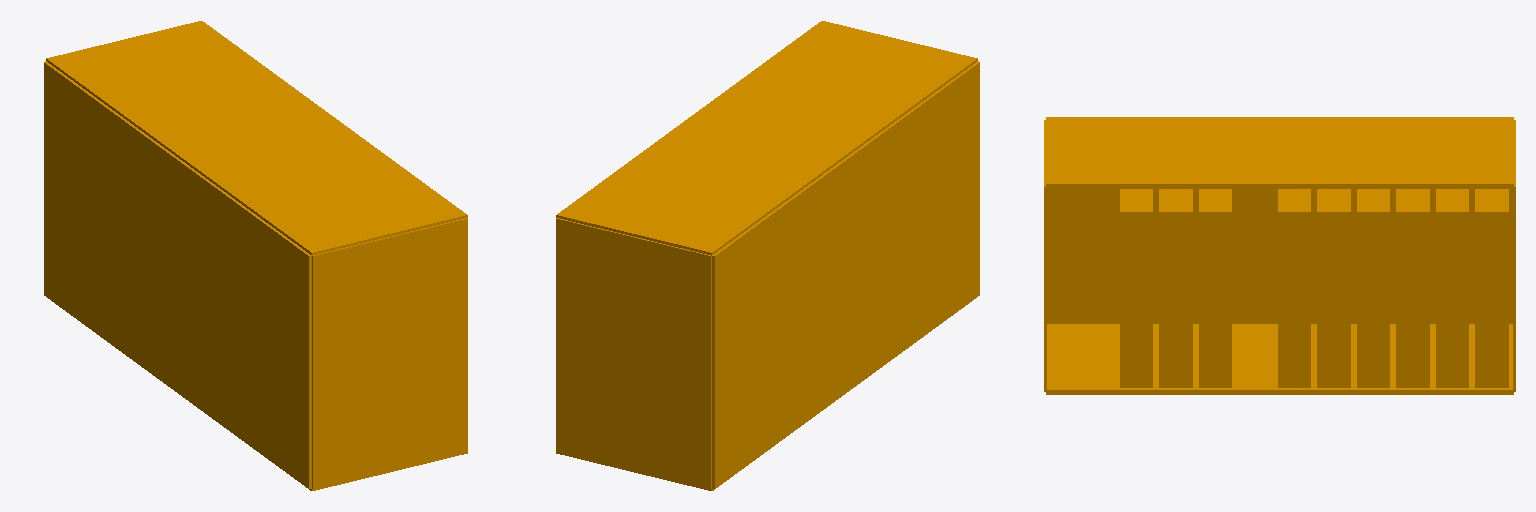
robot.urdf — syn_bookshelf_90:
<?xml version="1.0" ?>
<robot name="syn_bookshelf_90">
    <link concave="yes" name="base_link">
        <inertial>
            <origin rpy="0 0 0" xyz="0 0 0"/>
            <mass value="0.0"/>
            <inertia ixx="1e-08" ixy="0" ixz="0" iyy="1e-08" iyz="0" izz="1e-08"/>
        </inertial>
        <visual>
            <origin xyz="0 0 0" rpy="0 0 0" />
            <geometry>
                <mesh filename="syn_bookshelf_90.obj" scale="1.000000 1.000000 1.000000"/>
            </geometry>         
        </visual>

        <collision concave="yes">
            <origin xyz="0 0 0" rpy="0 0 0"/>
            <geometry>
                <mesh filename="syn_bookshelf_90.obj" scale="1.000000 1.000000 1.000000"/>
            </geometry>
        </collision>
    </link>
</robot>
    

--- Render facts (derived) ---
Views: 3 orthographic renders of the robot side by side, from view 1: azimuth 30°, elevation 25°; view 2: azimuth 150°, elevation 25°; view 3: azimuth 270°, elevation 25°.
Robot: syn_bookshelf_90 — 1 links, 0 joints (none); root link base_link; default pose: all joints at 0.
Links seen in each view (by area): view 1: base_link; view 2: base_link; view 3: base_link.
Boxes of the visible links, box(x1,y1,x2,y2) form: base_link: box(44, 21, 467, 490); base_link: box(556, 21, 979, 490); base_link: box(1044, 117, 1515, 394).
Bounding box of the posed robot: 0.2074 × 0.6063 × 0.2986 m (x, y, z).
Meshes: 1 distinct files referenced, 1 mesh visuals loaded (1 OBJ).
